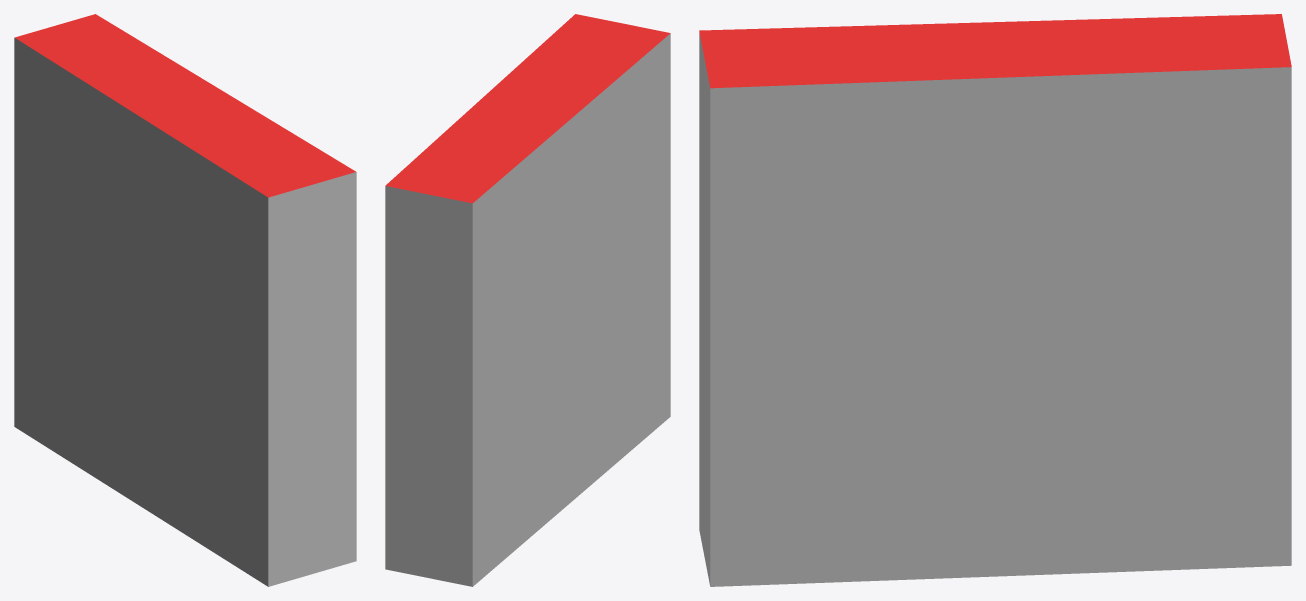
Rendered from DEBE3D04YY50002cqa.dae.
3 renders of one model, left to right at view 1: azimuth 30°, elevation 25°; view 2: azimuth 150°, elevation 25°; view 3: azimuth 270°, elevation 25°, orthographic. The views are drawn at different scales.
Bounding box in the file's own units: 1.2 × 4.05 × 3.76.
